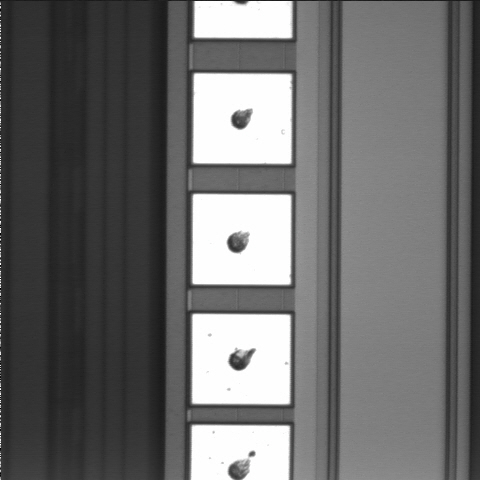pad: (193, 73, 292, 164), (192, 194, 291, 285), (192, 314, 290, 404)
